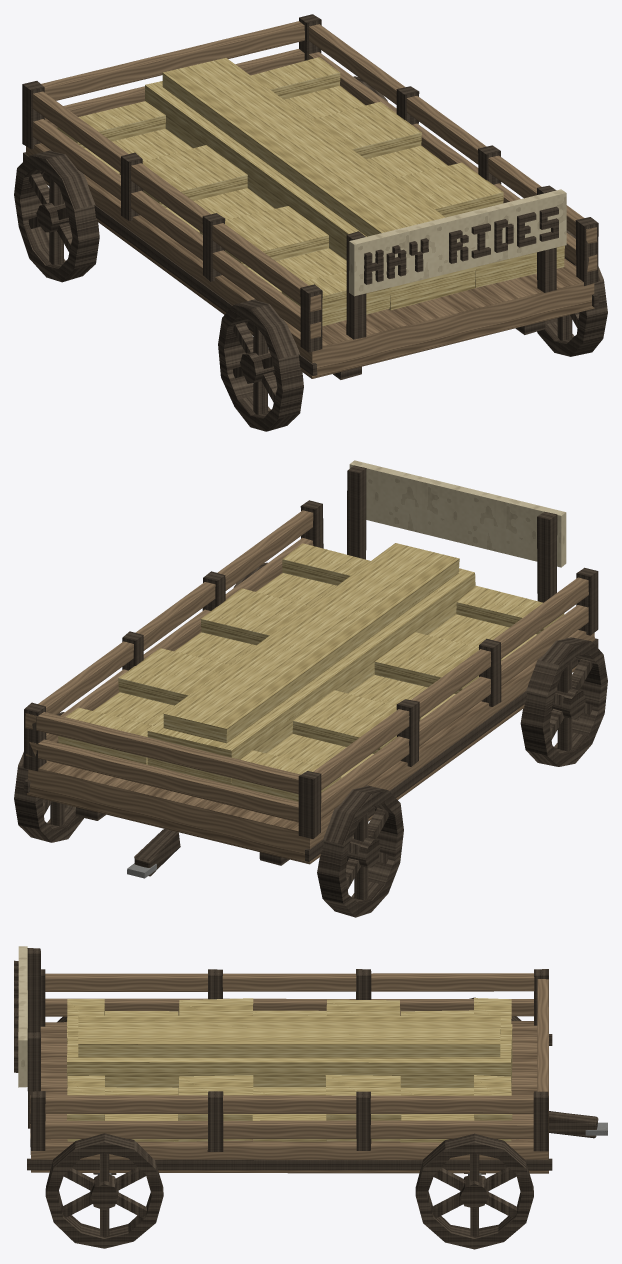
Rendered from hay_wagon.glb.
3 renders of one model, top to bottom at view 1: azimuth 30°, elevation 25°; view 2: azimuth 150°, elevation 25°; view 3: azimuth 270°, elevation 25°, orthographic. The views are drawn at different scales.
Parts seen in each view (by area): view 1: HayWagon, HayFill, Board, Wheel_L2, Wheel_L1, Wheel_R2; view 2: HayWagon, HayFill, Board, Wheel_L2, Wheel_L1, Wheel_R1; view 3: HayWagon, HayFill, Wheel_R1, Wheel_R2, Board.
Part boxes in pixels (x1,y1,x2,y2): HayWagon: (22,14,598,379); HayFill: (145,58,475,310); Board: (349,189,566,296); Wheel_L2: (218,299,303,431); Wheel_L1: (14,150,99,282); Wheel_R2: (537,230,607,356); HayWagon: (23,465,598,878); HayFill: (147,543,475,785); Board: (349,460,566,567); Wheel_L2: (520,637,607,766); Wheel_L1: (317,785,403,917); Wheel_R1: (14,712,83,842); HayWagon: (14,948,607,1175); HayFill: (67,1015,512,1090); Wheel_R1: (415,1133,533,1249); Wheel_R2: (45,1133,163,1248); Board: (18,946,27,1087).
Bounding box in the file's own units: 2.62 × 1.55 × 4.49.
5 materials, 5 textured.
